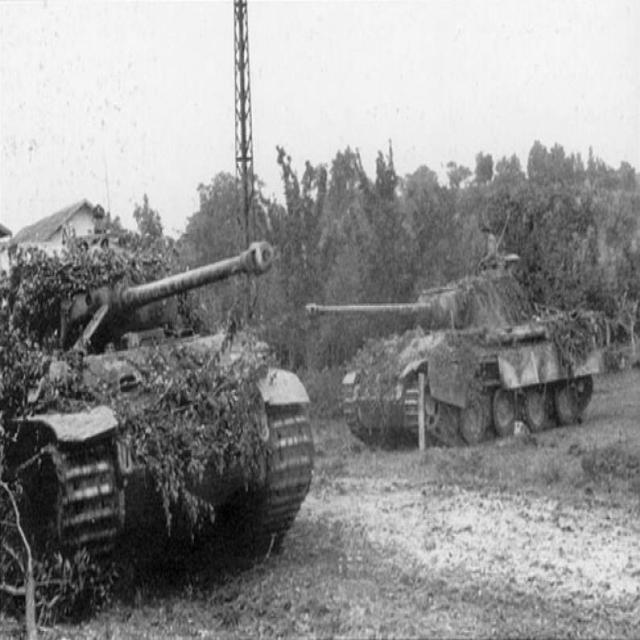Tanks: (5, 229, 333, 593), (328, 272, 612, 458)
